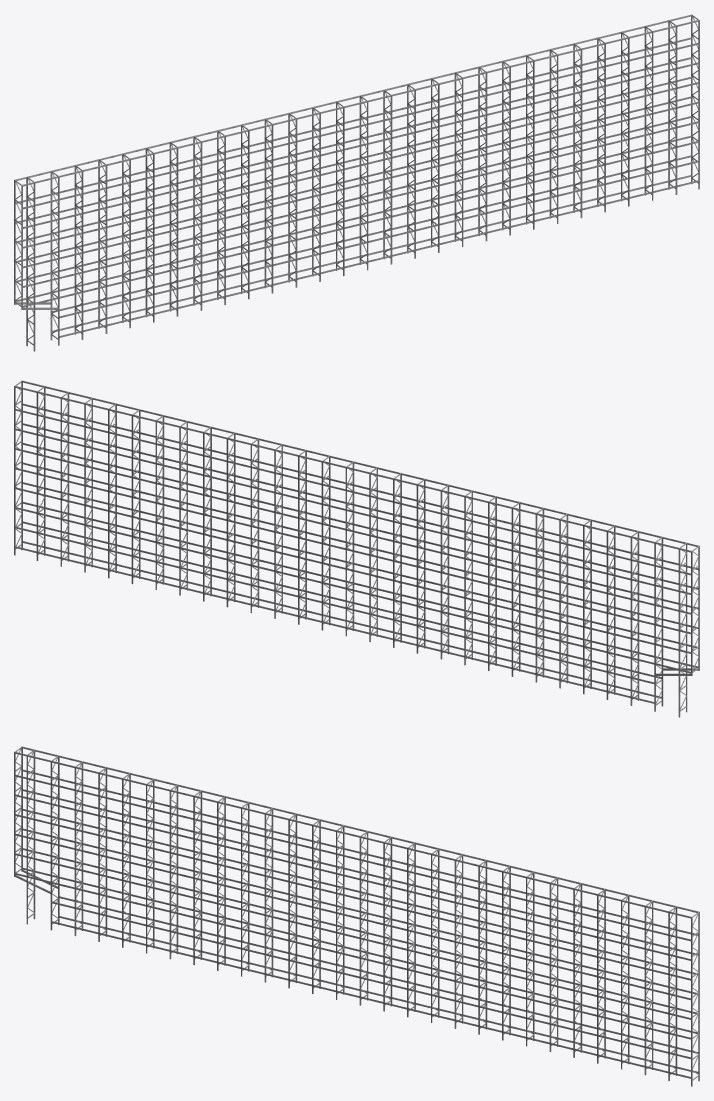
The model's file is SND_liku2.glb.
The picture shows the model from 3 angles, top to bottom: view 1: azimuth 30°, elevation 25°; view 2: azimuth 150°, elevation 25°; view 3: azimuth 330°, elevation 25°; orthographic projection.
Visible parts, largest first — view 1: Asset3DLoader.sceneRoot; view 2: Asset3DLoader.sceneRoot; view 3: Asset3DLoader.sceneRoot.
Boxes of the visible parts, x1,y1,x2,y2 form: Asset3DLoader.sceneRoot: (14, 14, 699, 351); Asset3DLoader.sceneRoot: (14, 380, 699, 717); Asset3DLoader.sceneRoot: (14, 746, 699, 1086).
Bounding box in the file's own units: 593 × 142 × 11.81.
1 material, 1 textured.
